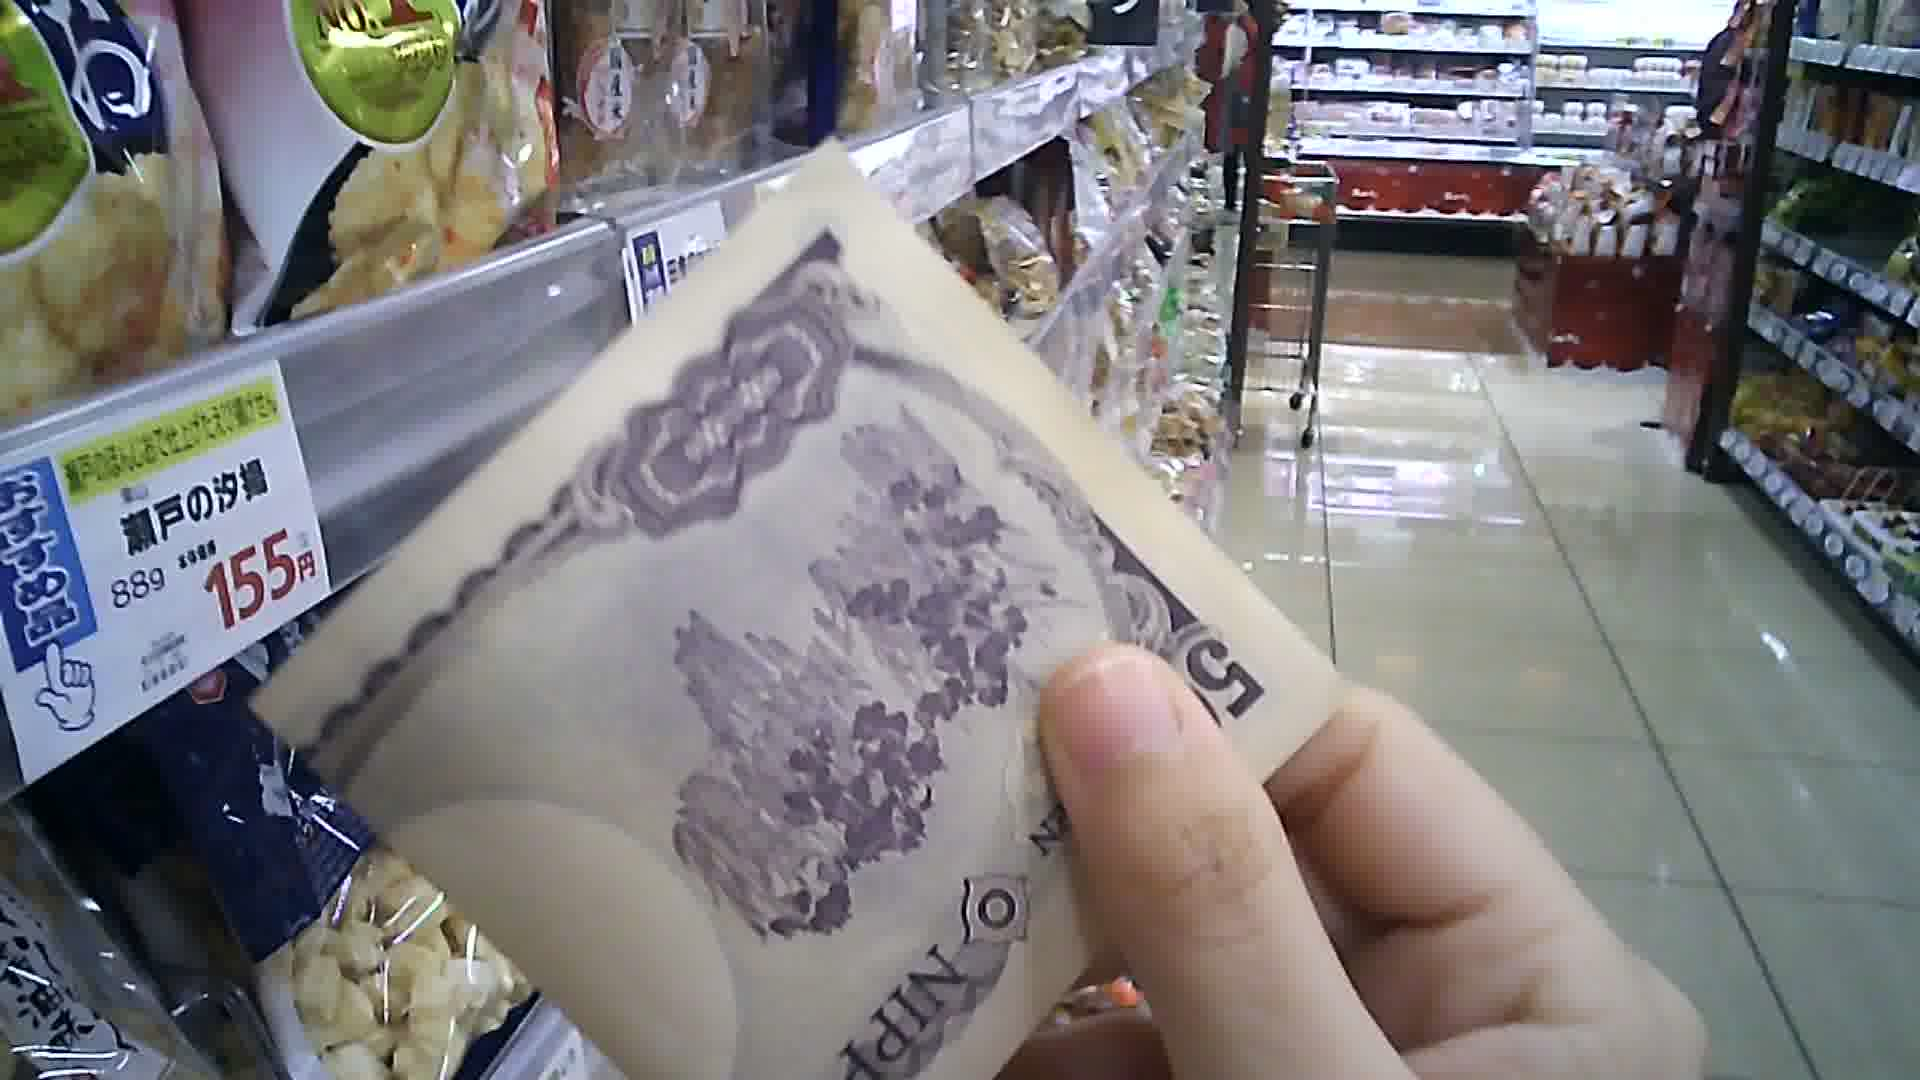5,000 Yen: (247, 169, 1348, 1062)
